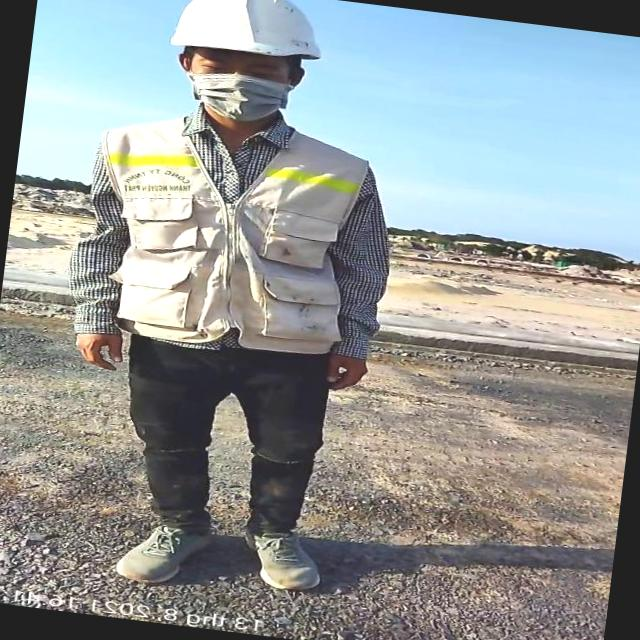helmet: (156, 0, 335, 75)
no-boots: (91, 514, 222, 594), (230, 522, 339, 598)
no-gloves: (49, 304, 137, 386), (319, 337, 379, 425)
vest: (66, 93, 382, 367)
